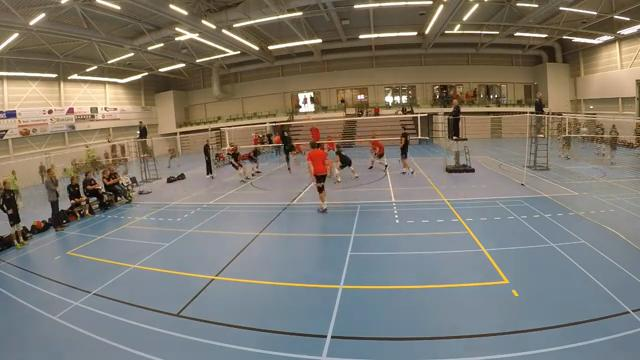attacco: (273, 119, 303, 178)
